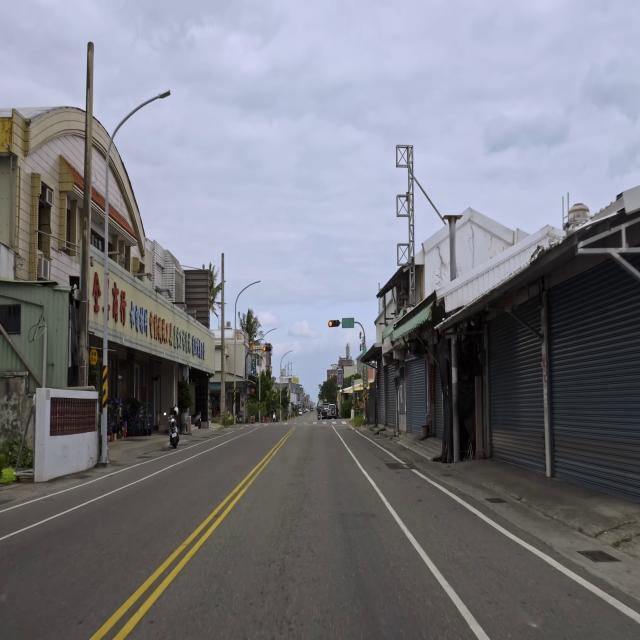red light: (328, 320, 340, 328), (263, 346, 271, 352)
